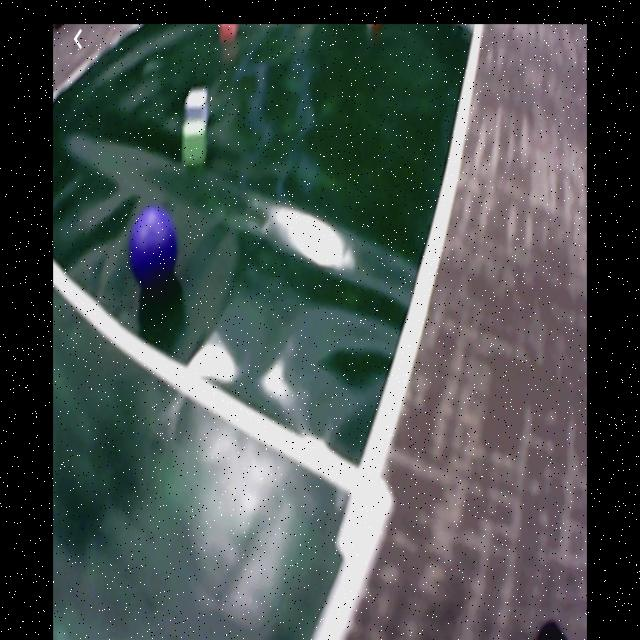ball: (131, 208, 179, 286)
